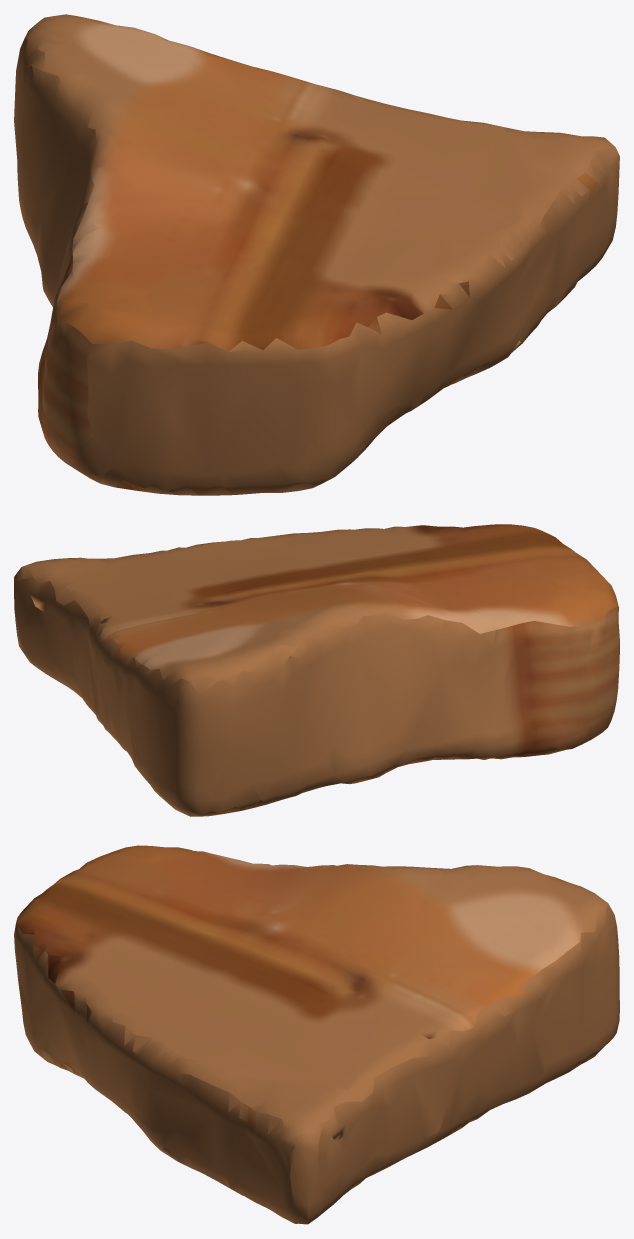
Rendered from Glacier_board08.fbx.
3 views of the same model, one above another, from view 1: azimuth 30°, elevation 25°; view 2: azimuth 150°, elevation 25°; view 3: azimuth 270°, elevation 25° (orthographic). The views are drawn at different scales.
Visible parts, largest first — view 1: material_0; view 2: material_0; view 3: material_0.
Part boxes in pixels (bbox=[...]): material_0: bbox=[14, 14, 619, 495]; material_0: bbox=[14, 524, 619, 816]; material_0: bbox=[14, 845, 619, 1224].
Size of the model in its own units: 0.1658 by 0.0576 by 0.1608.
